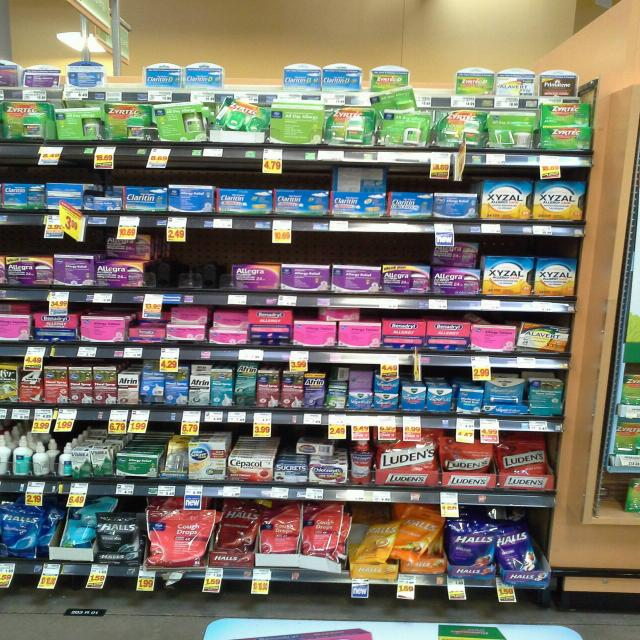void: (160, 245, 227, 303)
